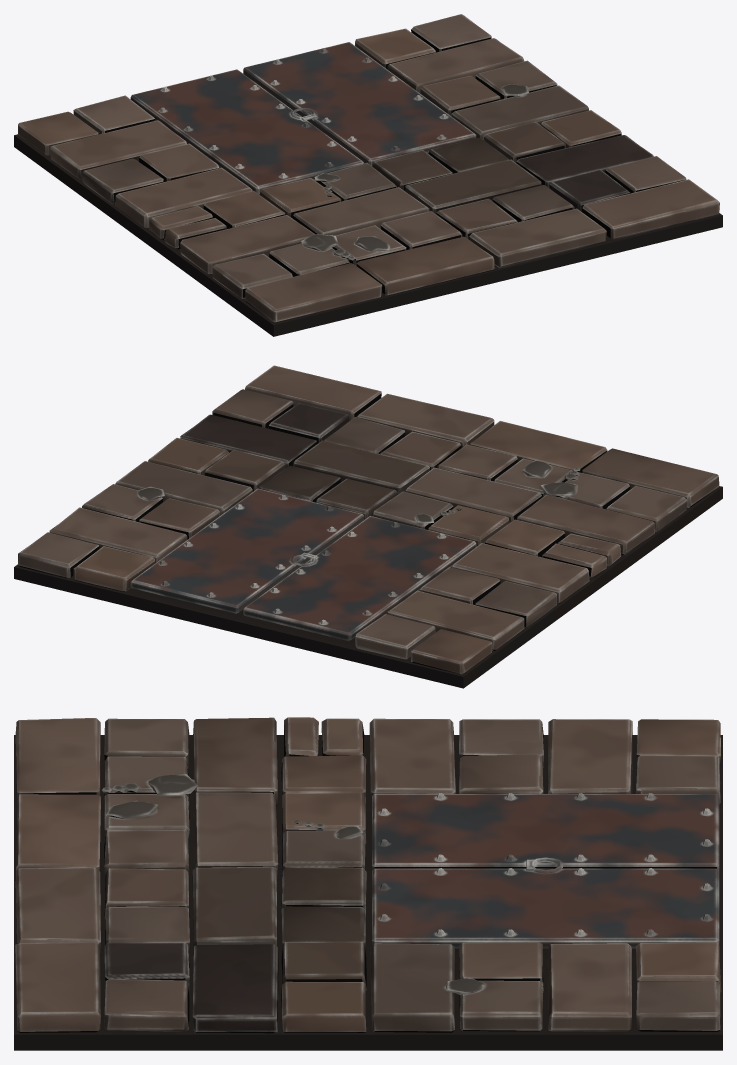
Rendered from foundry_floor_tile.glb.
3 views of the same model, one above another, from view 1: azimuth 30°, elevation 25°; view 2: azimuth 150°, elevation 25°; view 3: azimuth 270°, elevation 25° (orthographic). The views are drawn at different scales.
Visible parts, largest first — view 1: foundry_floor_tile; view 2: foundry_floor_tile; view 3: foundry_floor_tile.
Part boxes in pixels (left/top/right/bottom): foundry_floor_tile: left=14, top=14, right=722, bottom=336; foundry_floor_tile: left=14, top=365, right=722, bottom=688; foundry_floor_tile: left=14, top=717, right=722, bottom=1050.
Size of the model in its own units: 4 by 0.2476 by 4.
1 material, 1 textured.
